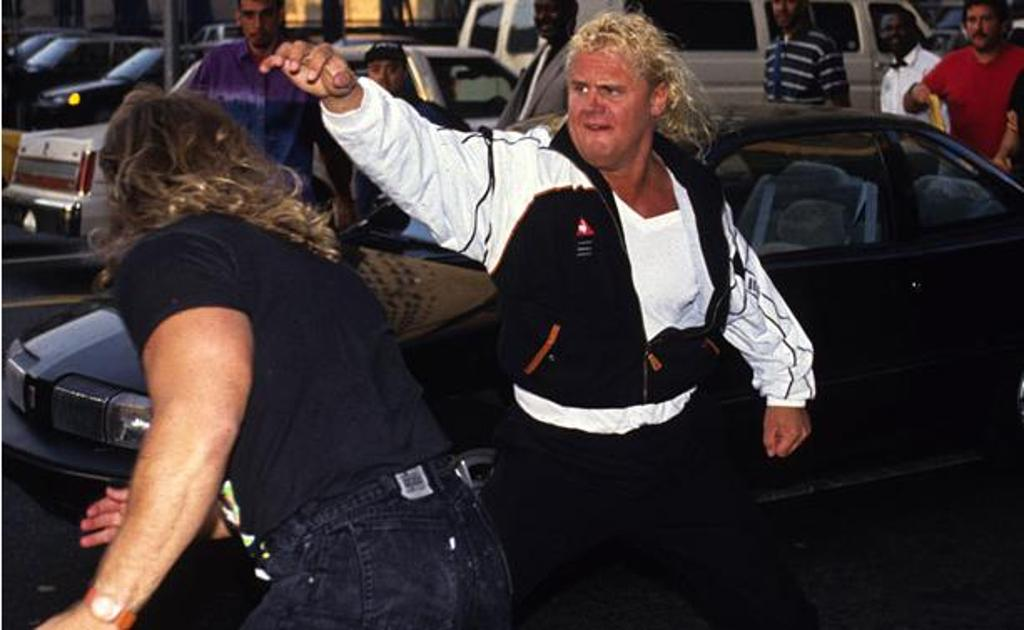face: (567, 49, 648, 157), (242, 0, 278, 45), (534, 0, 568, 38), (966, 8, 997, 48), (368, 56, 401, 93), (880, 15, 906, 48), (774, 0, 798, 27)
